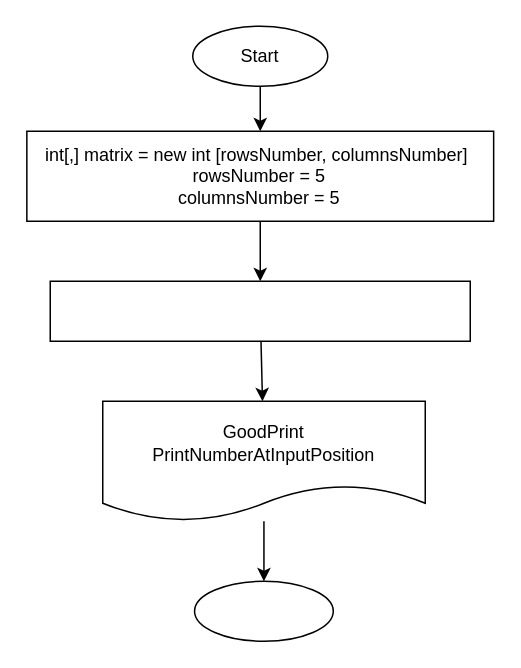
The diagram is 521 pixels wide and 668 high, and some of its shapes have lost their labels. The shapes that lost their labels are listed below. From the top down, each one's box as (x1, y1, x2, y2) in pixels, then its label:
(49, 280, 470, 341): FillMatrix(matrix, rowsNumber, columnsNumber)
(193, 580, 333, 641): end
